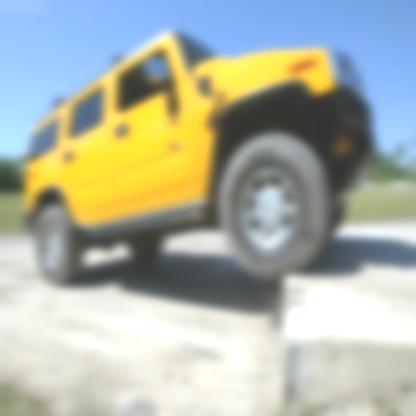Vehicle: (23, 27, 379, 287)
